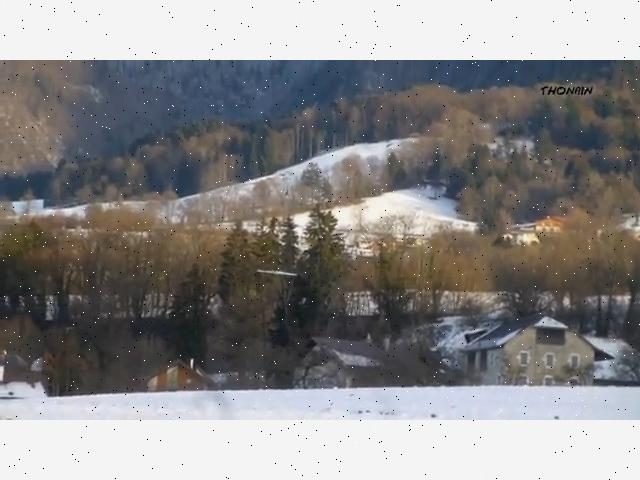Anti-Drone: (258, 271, 296, 275)
